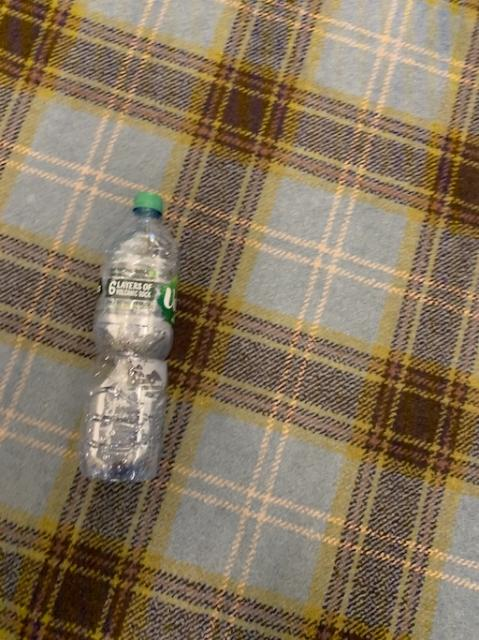plastic: (78, 191, 176, 479)
